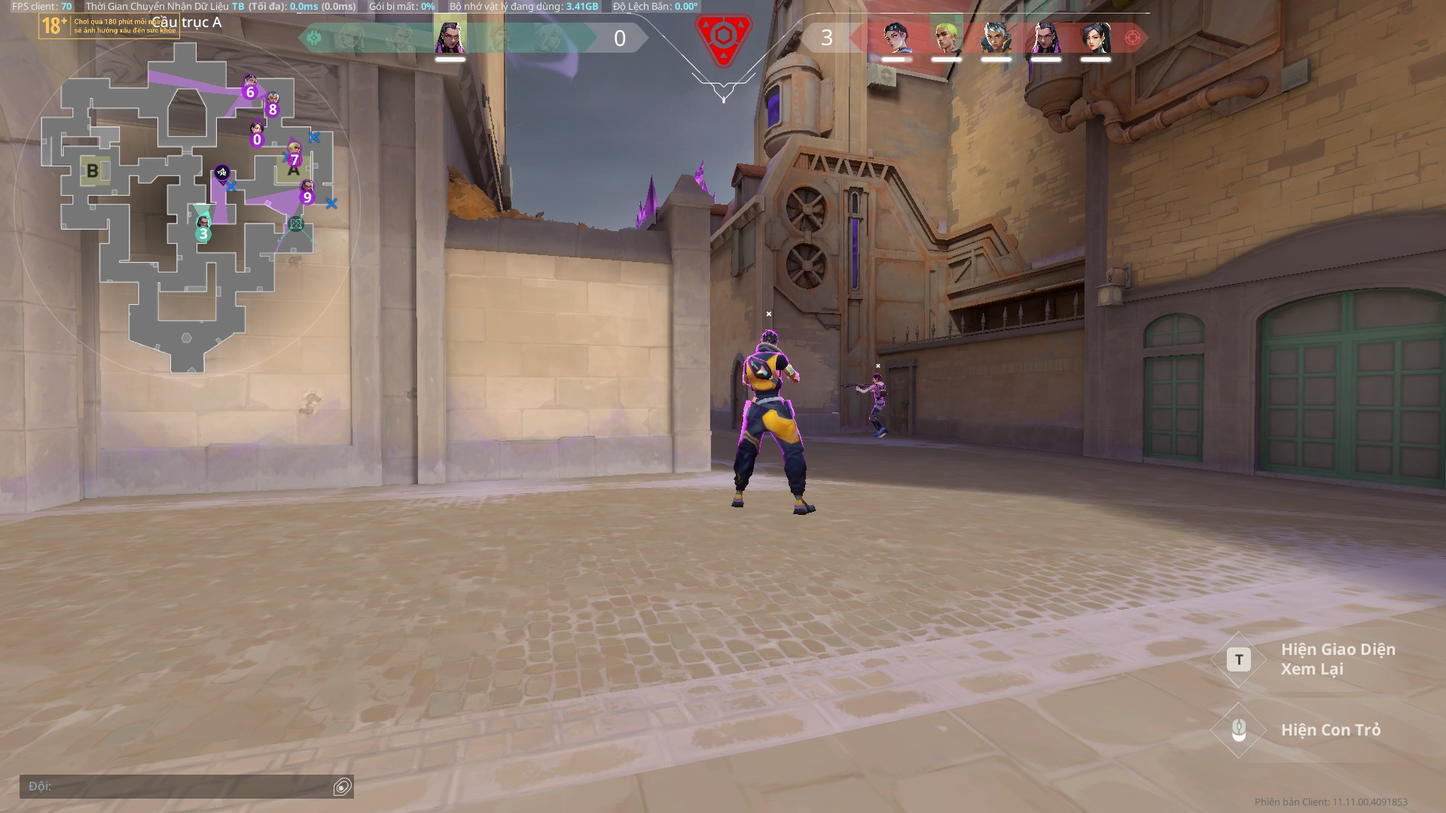body: (743, 349, 801, 397), (870, 382, 888, 400)
head: (758, 327, 786, 354), (870, 375, 883, 385)
